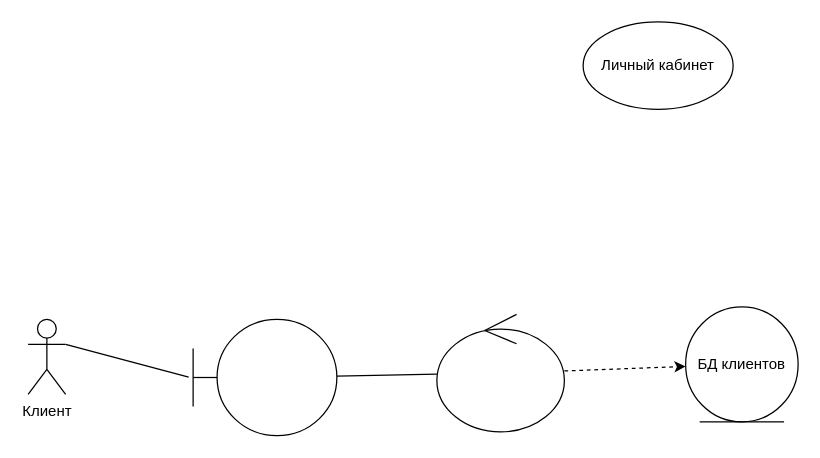
This 820x458 diagram has some shape labels left out. Each missing label, with the box of its shape:
Интерфейс личного кабинета: (192, 318, 337, 436)
Получение и добавление информации в БД: (436, 313, 564, 432)
